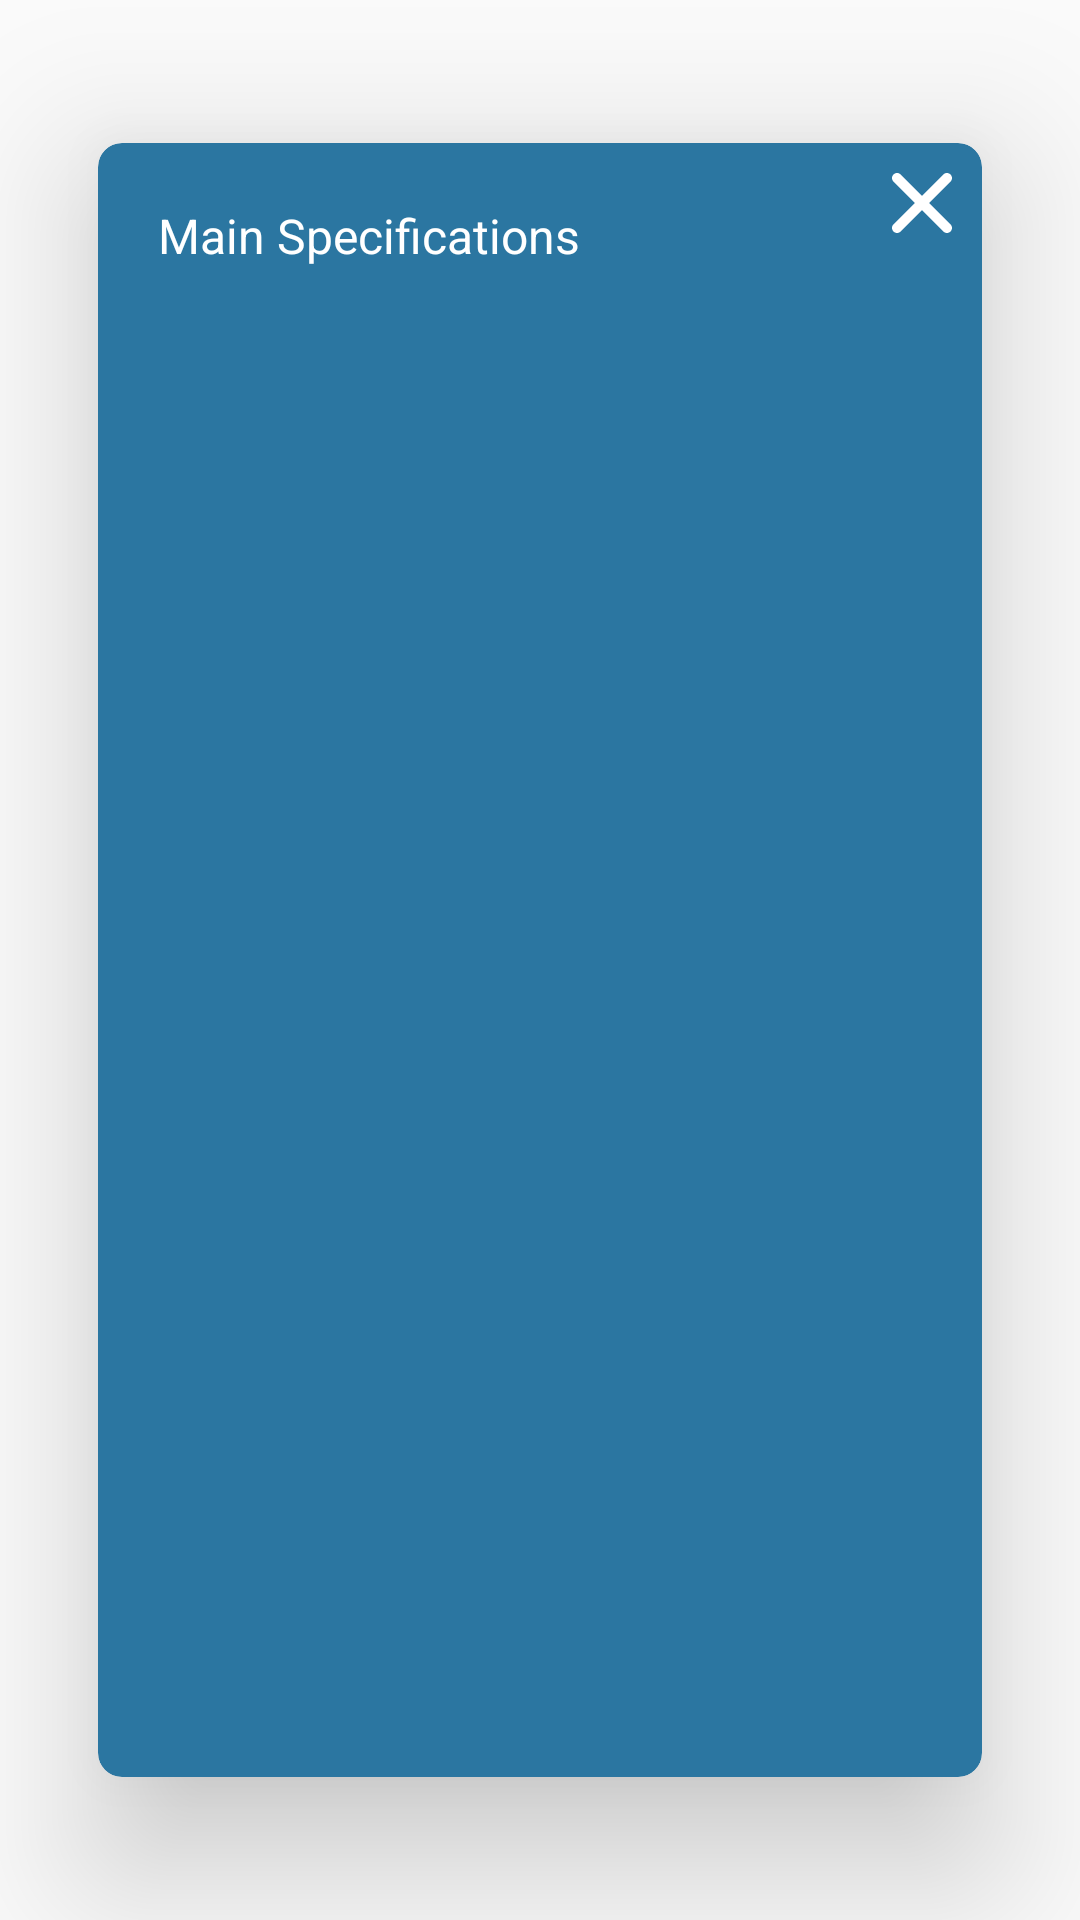

Icon click points for this 1080x1920 phone screenshot, format [x,y]:
cancel: [922,203]
